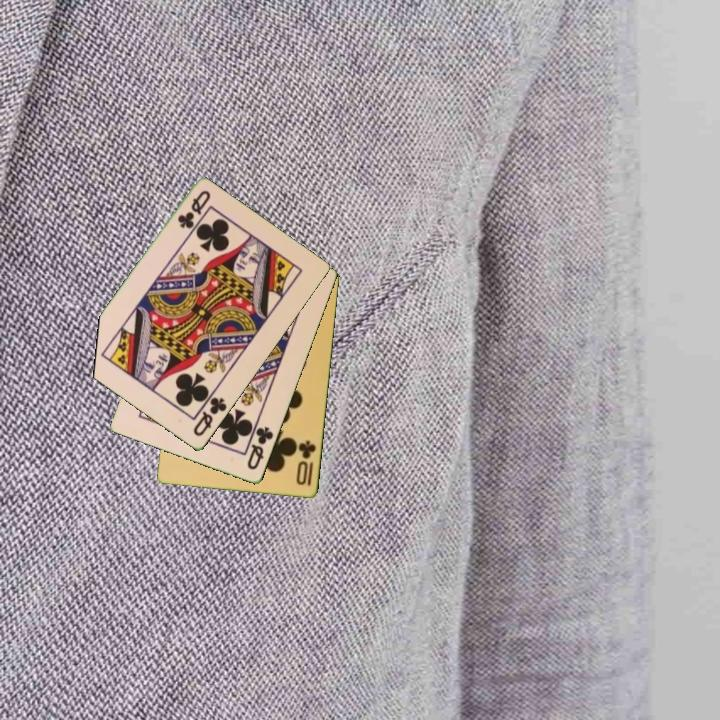10c: (293, 437, 319, 489)
Qc: (190, 388, 230, 440), (174, 187, 214, 232), (244, 423, 276, 473)
